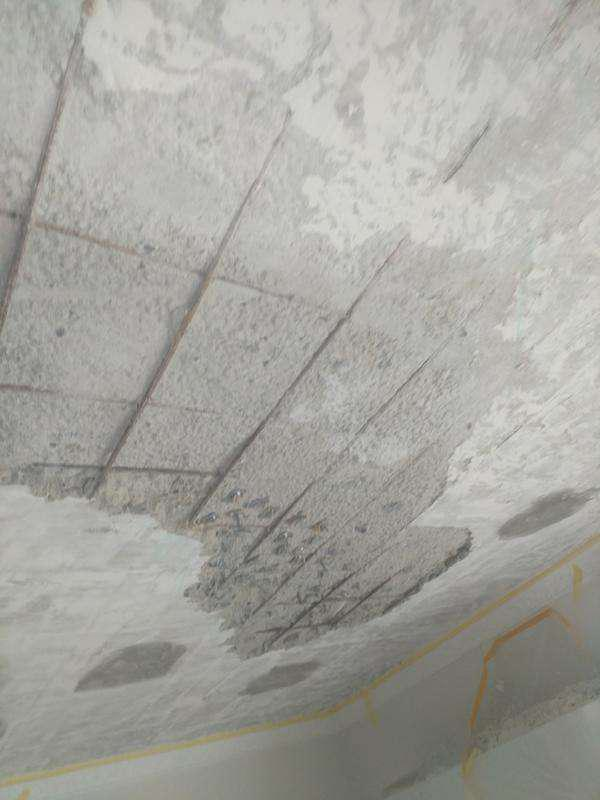Exposed reinforcement: (87, 125, 292, 502), (185, 233, 411, 526), (242, 333, 456, 567), (249, 423, 457, 621), (1, 211, 327, 312), (1, 1, 95, 333), (265, 543, 400, 646), (2, 383, 222, 416), (334, 569, 404, 625), (439, 121, 492, 187), (32, 461, 226, 478), (275, 595, 397, 606), (253, 622, 332, 635), (199, 523, 267, 531)
Spalling: (1, 1, 600, 663), (73, 642, 189, 693), (496, 487, 595, 542), (235, 660, 323, 698)
